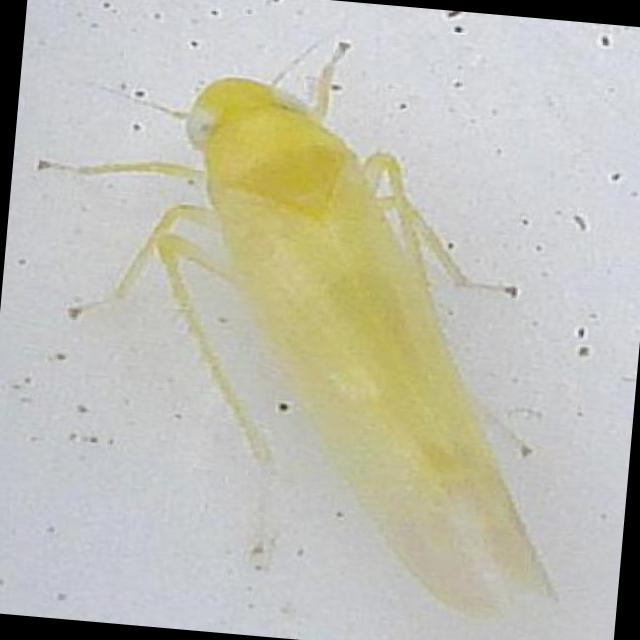green-leafhopper: (74, 51, 596, 610)
